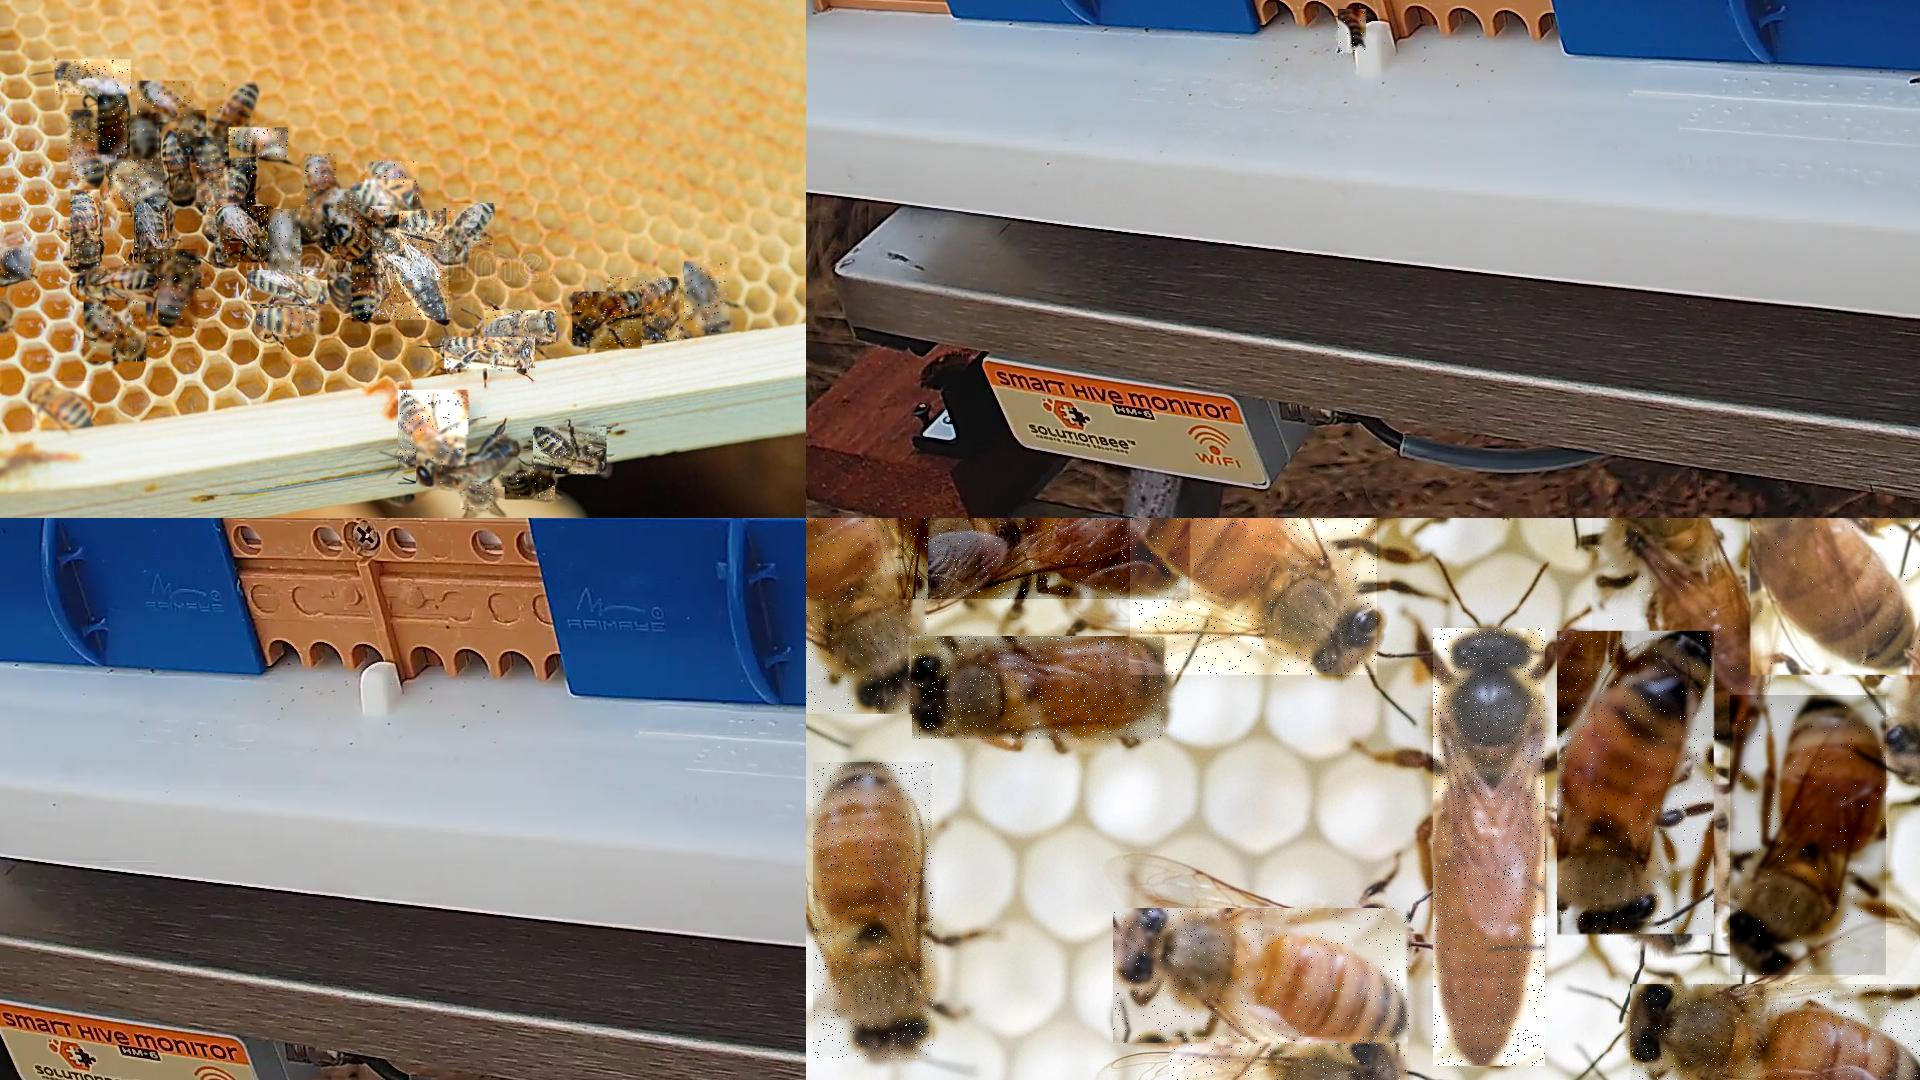bee: (1557, 632, 1716, 939), (1730, 695, 1887, 976), (1114, 909, 1412, 1044), (1130, 518, 1379, 676), (1592, 518, 1766, 742), (814, 764, 935, 1060), (1630, 984, 1919, 1079), (913, 637, 1166, 742), (1751, 518, 1919, 676), (806, 518, 930, 716), (899, 518, 1191, 601), (1168, 1036, 1410, 1079), (398, 389, 469, 465), (607, 277, 684, 342), (572, 291, 642, 351), (84, 301, 150, 363), (534, 427, 612, 475), (216, 206, 274, 264), (160, 249, 202, 328), (444, 338, 535, 373), (208, 82, 257, 148), (684, 261, 728, 331), (443, 204, 495, 261), (206, 167, 247, 239), (32, 381, 92, 429), (108, 161, 165, 211), (55, 59, 132, 96), (247, 270, 328, 305), (326, 206, 390, 247), (301, 191, 363, 233), (67, 109, 102, 185), (484, 310, 558, 343), (137, 82, 195, 123), (71, 190, 102, 268), (365, 162, 421, 204), (135, 200, 170, 265), (351, 182, 414, 216), (305, 154, 340, 211), (198, 137, 228, 203), (269, 210, 301, 272), (228, 128, 289, 160), (98, 94, 128, 156), (352, 258, 381, 323), (76, 268, 156, 290), (257, 309, 324, 335), (331, 224, 378, 261), (228, 146, 257, 206), (505, 471, 556, 501), (131, 115, 160, 167), (178, 111, 208, 157), (400, 211, 448, 233), (0, 247, 32, 281), (462, 483, 497, 512), (331, 272, 352, 314)
drone: (417, 435, 518, 488)
pollenbee: (1338, 11, 1367, 53)
queen: (1433, 628, 1545, 1067), (375, 227, 452, 320)
